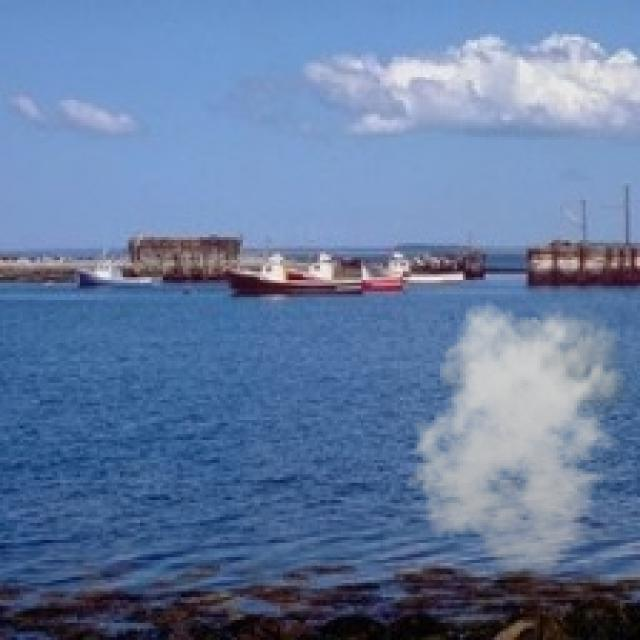smoke: (406, 294, 634, 574)
